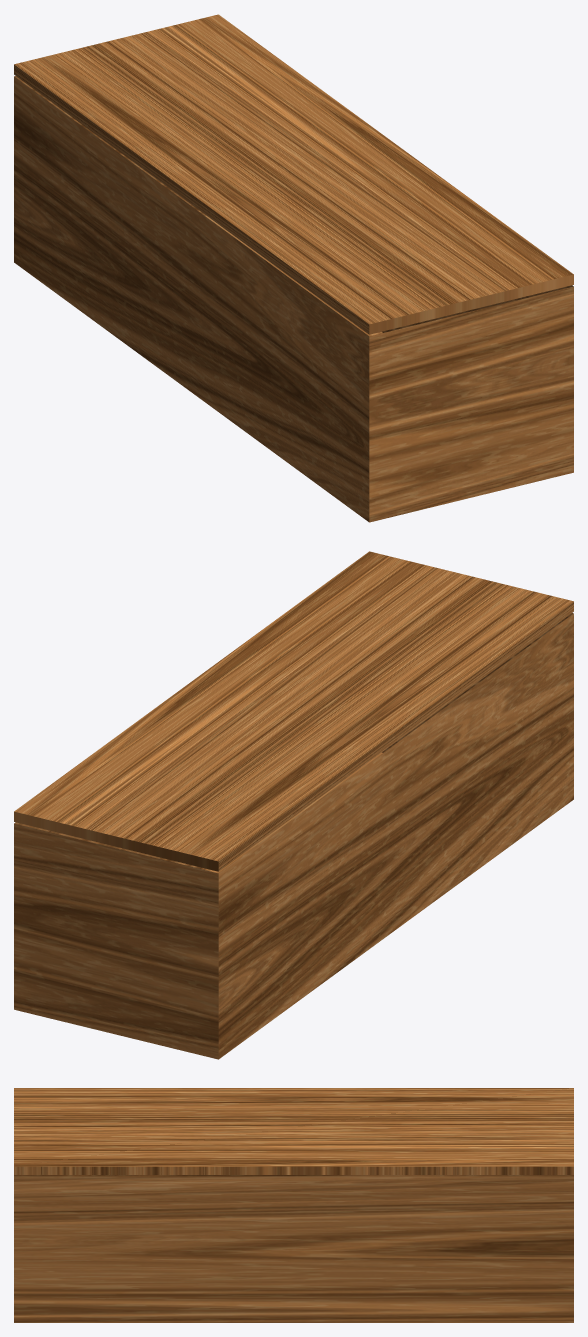
Rendered from Wood_0001.obj.
3 views of the same model, one above another, from view 1: azimuth 30°, elevation 25°; view 2: azimuth 150°, elevation 25°; view 3: azimuth 270°, elevation 25° (orthographic). The views are drawn at different scales.
Parts seen in each view (by area): view 1: Wood_0001; view 2: Wood_0001; view 3: Wood_0001.
Boxes of the visible parts, x1,y1,x2,y2 form: Wood_0001: [14, 14, 573, 522]; Wood_0001: [14, 551, 573, 1059]; Wood_0001: [14, 1088, 573, 1322].
Size of the model in its own units: 5.59 by 5.17 by 16.82.
